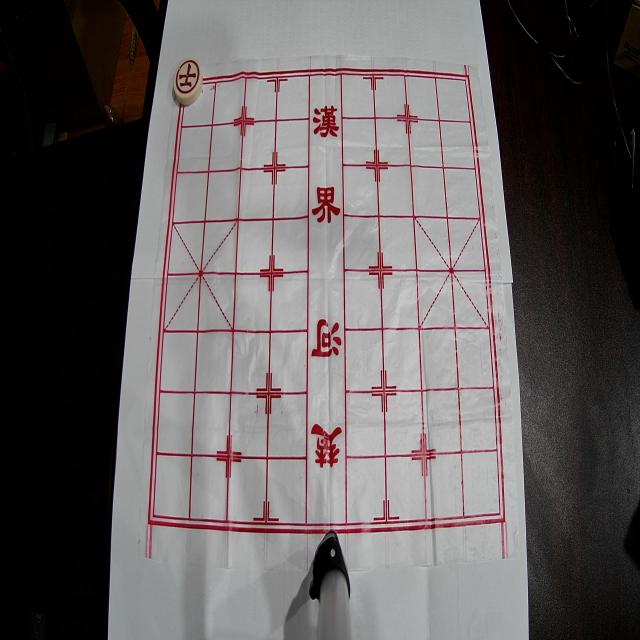red-guard: (174, 58, 202, 105)
